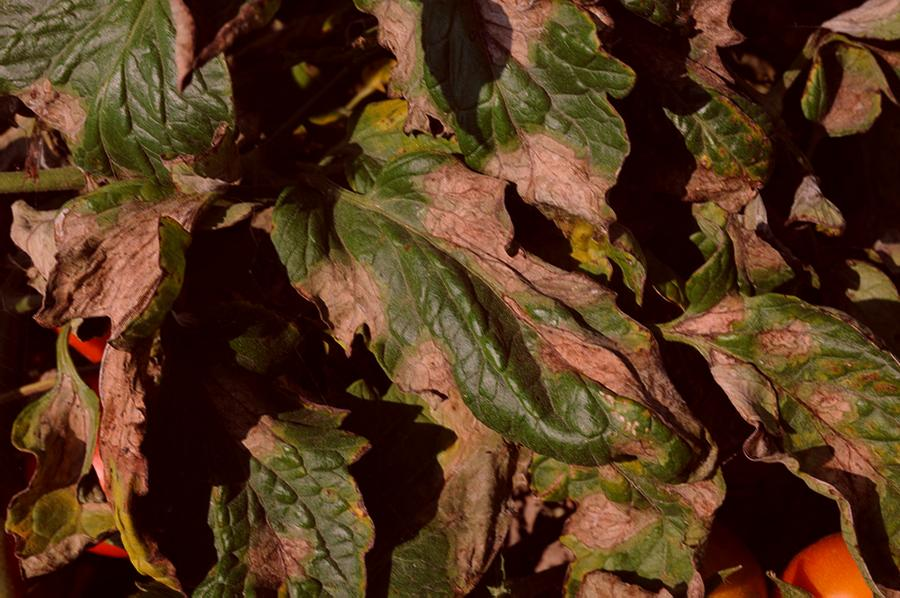Tomato leaf late blight: (257, 160, 714, 505), (657, 277, 899, 588), (0, 119, 242, 414), (352, 12, 648, 243), (147, 339, 387, 598), (0, 4, 268, 180)
